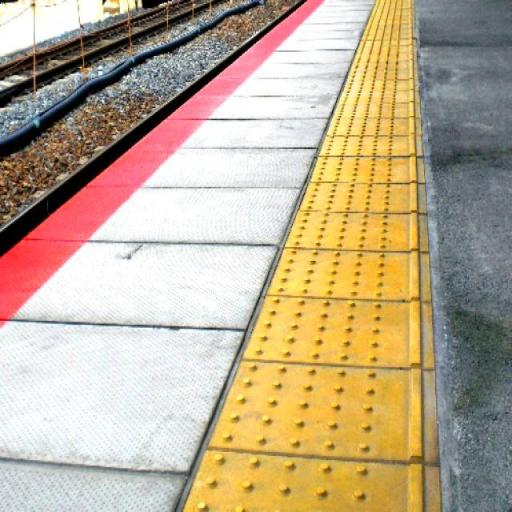dot: (206, 358, 385, 459), (249, 290, 386, 367), (273, 246, 390, 300), (286, 205, 392, 251)
